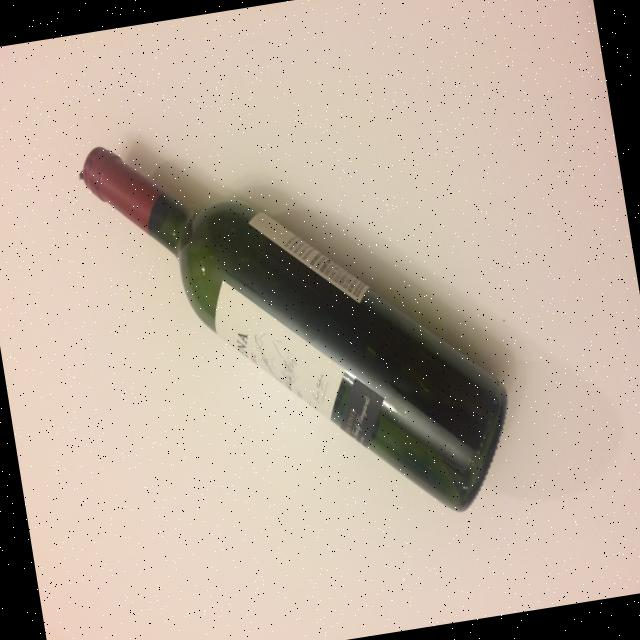glass: (84, 94, 512, 556)
